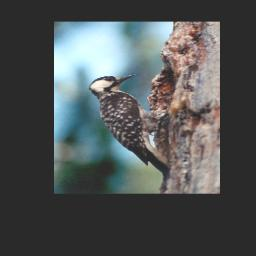Woodpecker: (79, 72, 176, 181)
